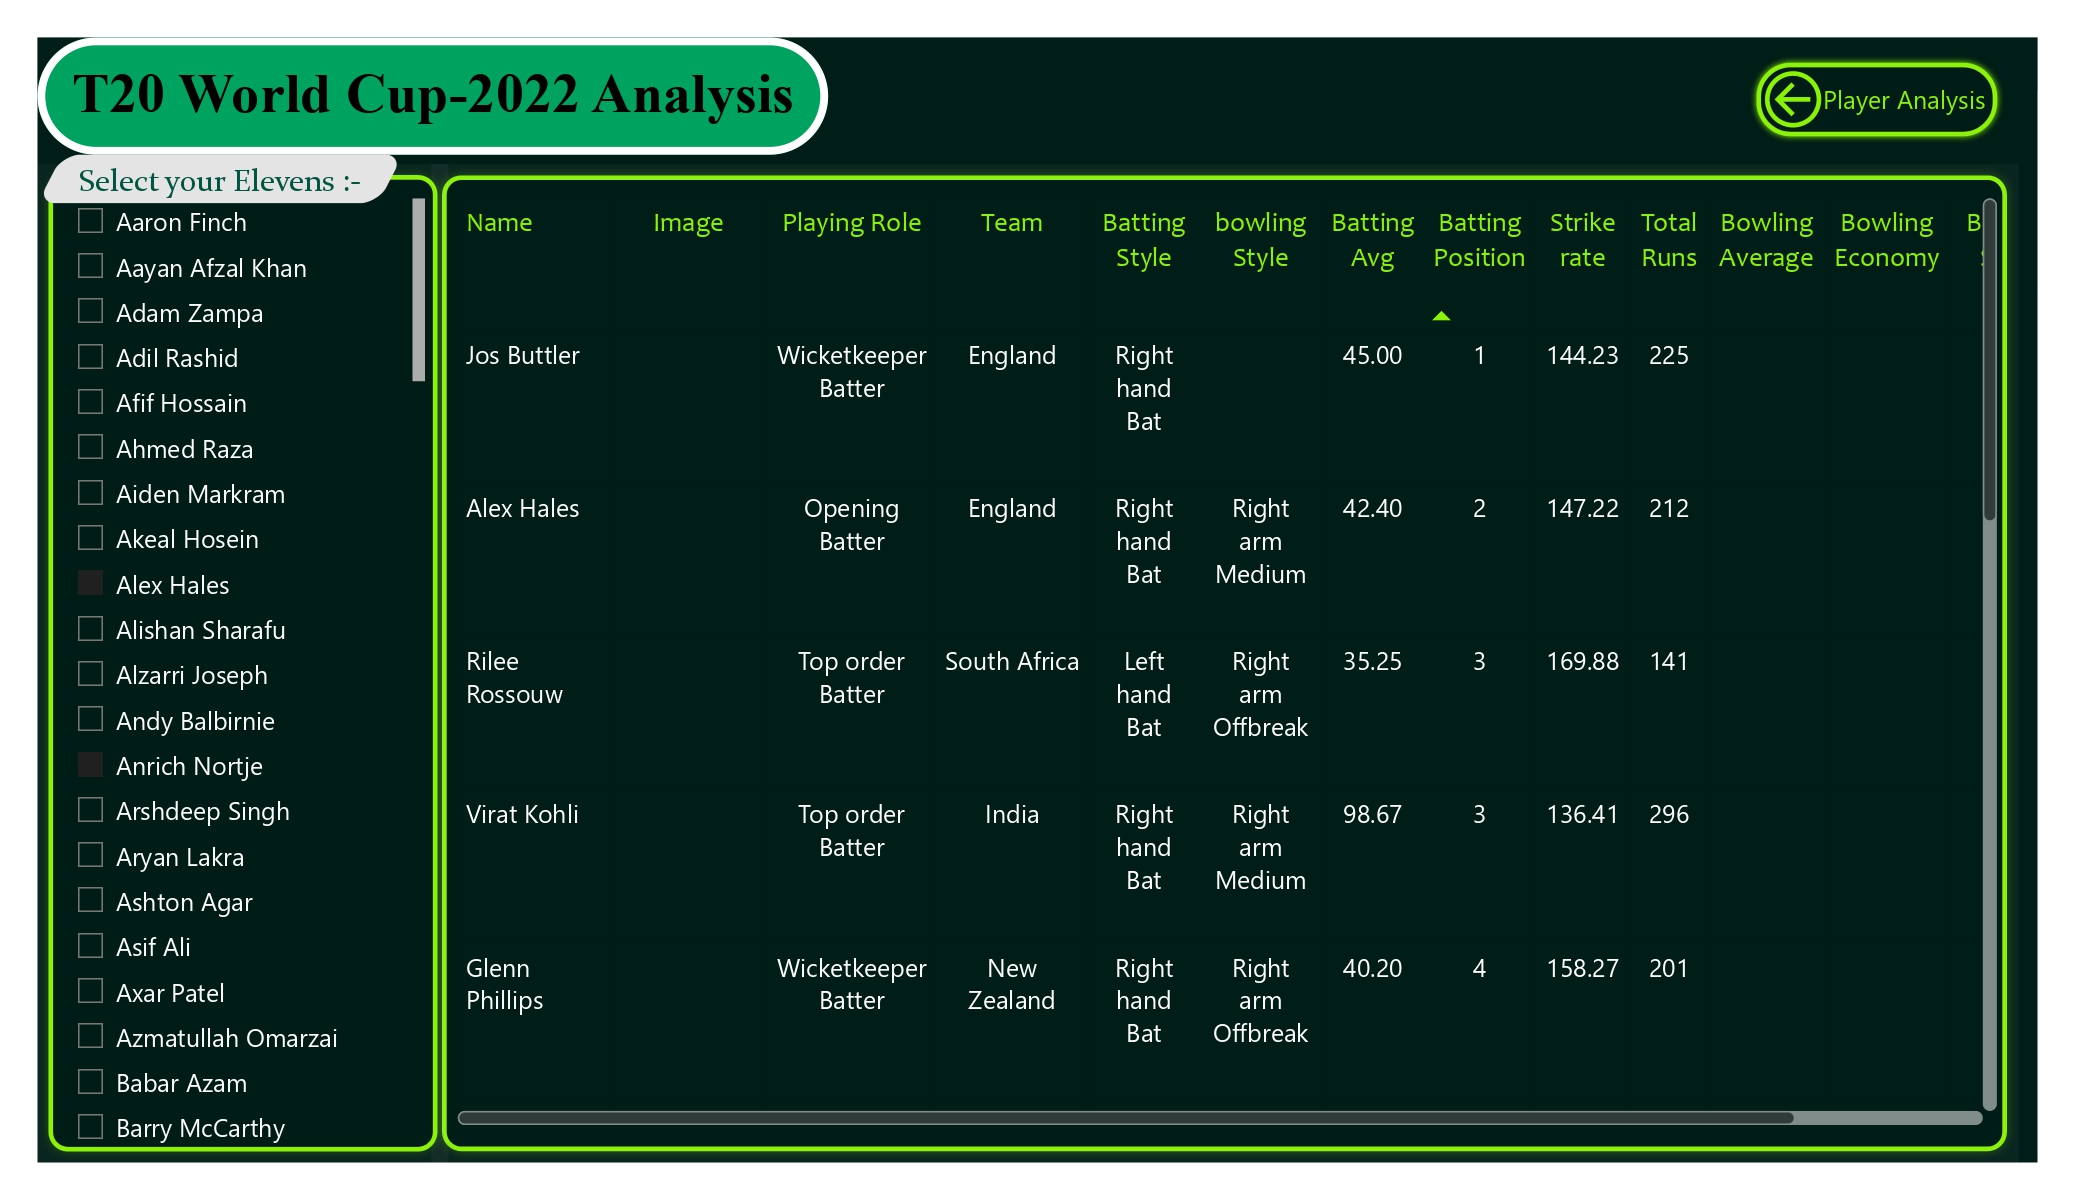

The page's visual inventory and layout, read from the dashboard file:
{"tool":"powerbi","page":{"name":"Final 11's","canvas":[1280,720],"ordinal":5},"visuals":[{"type":"shape","box":[251.6,81,1016.4,639],"z":0},{"type":"shape","box":[0,81,263.1,639],"z":1000},{"type":"shape","box":[0,0,506,75.2],"z":2000},{"type":"shape","box":[0,5.8,506,62.2],"z":3000},{"type":"slicer","fields":{"Values":["dim_players.name"]},"box":[13,98.3,240,621.7],"z":4000},{"type":"shape","box":[0,75.2,234.2,30.4],"z":5000},{"type":"actionButton","box":[1095.9,11.6,163.4,56.4],"z":6000},{"type":"tableEx","fields":{"Values":["dim_players.name","dim_players.image","dim_players.playingRole","dim_players.team","dim_players.battingStyle","dim_players.bowlingStyle","Key measures.Batting Avg","Key measures.Batting Position","Key measures.Strike rate","Key measures.Total Runs","Key measures.Bowling Average","Key measures.Bowling Economy"]},"box":[263.1,98.3,996.1,602.9],"z":7000}]}

Visuals, with their boxes in screenshot pixels (x1, y1, x2, y2):
shape: 420/174/1988/1159
shape: 32/174/438/1159
shape: 32/49/813/165
shape: 32/58/813/153
slicer - dim_players.name: 52/200/423/1159
shape: 32/165/394/211
actionButton: 1722/67/1974/153
tableEx - dim_players.name x dim_players.image: 438/200/1974/1130
